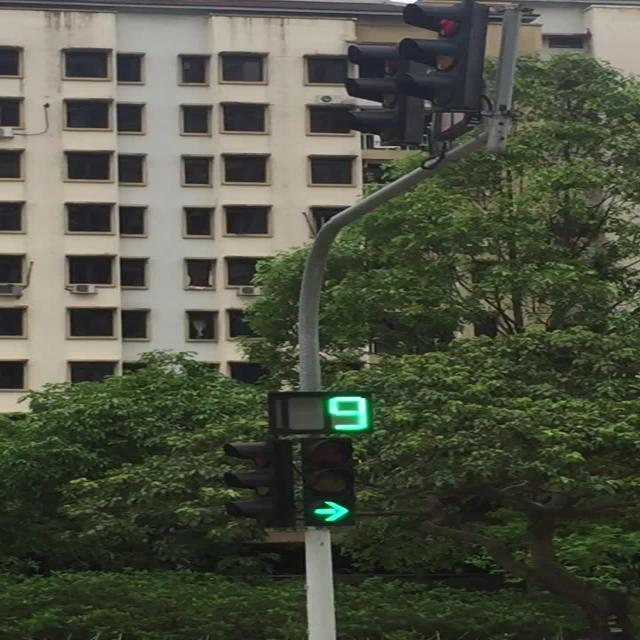traffic light: (400, 0, 489, 114), (344, 40, 426, 148), (223, 439, 294, 529), (302, 436, 356, 527), (268, 391, 373, 436), (327, 394, 373, 434)
